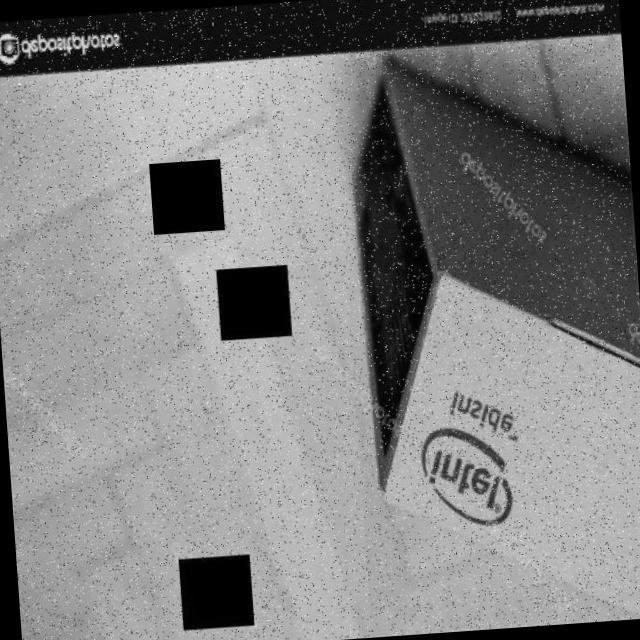box: (331, 39, 640, 636)
